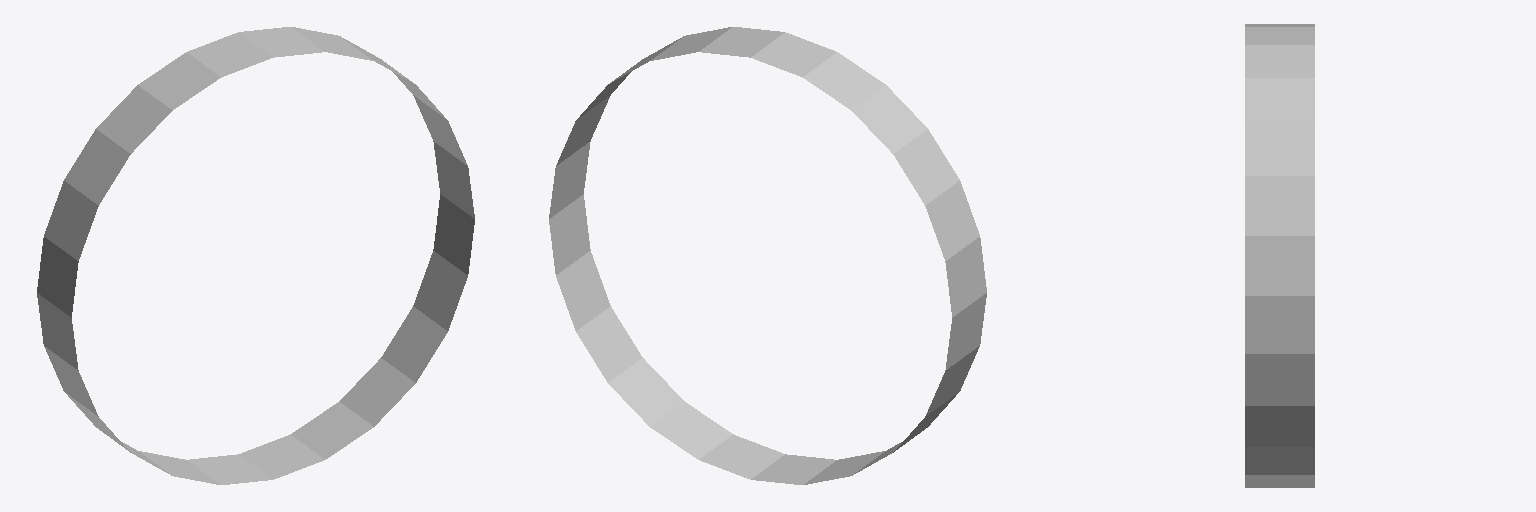
Rendered from original-30.obj.
3 views of the same model, side by side, from view 1: azimuth 30°, elevation 25°; view 2: azimuth 150°, elevation 25°; view 3: azimuth 270°, elevation 25° (orthographic).
Parts seen in each view (by area): view 1: mesh20/mesh20-geometry/material_1/component_1#mesh20-geometry; view 2: mesh20/mesh20-geometry/material_1/component_1#mesh20-geometry; view 3: mesh20/mesh20-geometry/material_1/component_1#mesh20-geometry.
Part boxes in pixels (x1,y1,x2,y2): mesh20/mesh20-geometry/material_1/component_1#mesh20-geometry: (37, 27, 474, 484); mesh20/mesh20-geometry/material_1/component_1#mesh20-geometry: (549, 27, 986, 484); mesh20/mesh20-geometry/material_1/component_1#mesh20-geometry: (1245, 24, 1314, 487).
Size of the model in its own units: 0.0404 by 0.0404 by 0.0061.